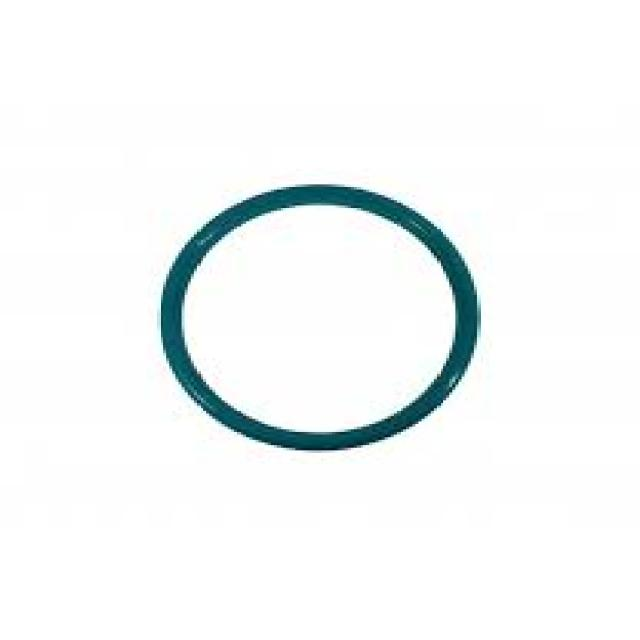-circle-round-: (155, 173, 488, 454)
